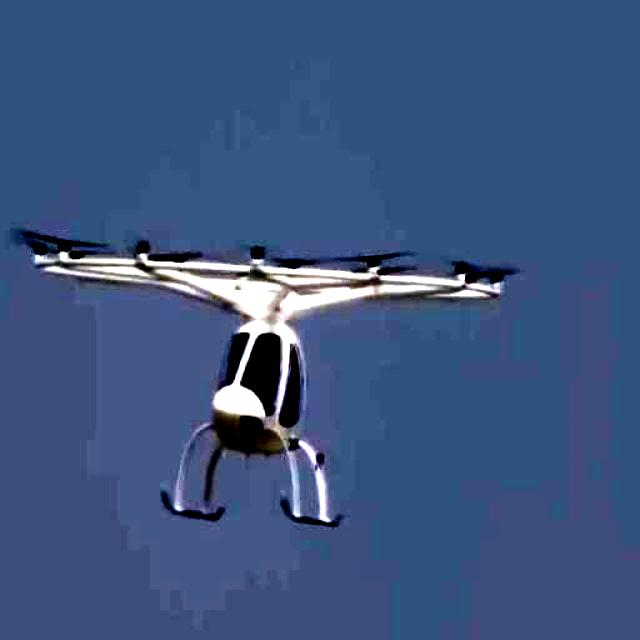drone: (4, 188, 521, 562)
